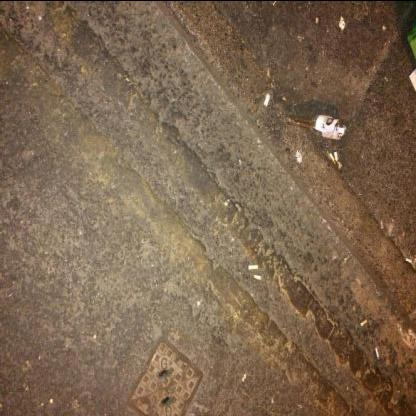Bottle cap: (288, 114, 348, 140)
Cigarette: (329, 151, 337, 164), (263, 93, 270, 106), (339, 160, 342, 172), (249, 264, 258, 268), (334, 151, 337, 162), (254, 274, 262, 278), (406, 258, 412, 262)
